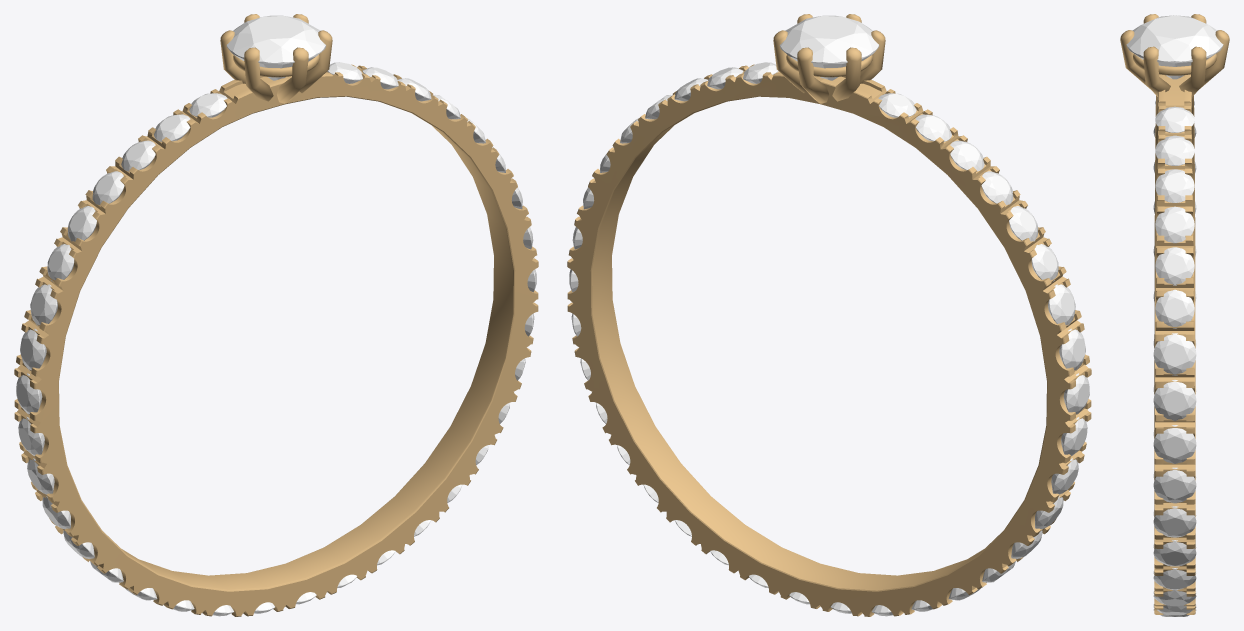
File: moissanite_ring.glb
3 views of the same model, side by side, from view 1: azimuth 30°, elevation 25°; view 2: azimuth 150°, elevation 25°; view 3: azimuth 270°, elevation 25° (orthographic). The views are drawn at different scales.
Parts seen in each view (by area): view 1: MoissaniteDiamondRing; view 2: MoissaniteDiamondRing; view 3: MoissaniteDiamondRing.
Boxes of the visible parts, <box> form: MoissaniteDiamondRing: <box>14,14,538,616</box>; MoissaniteDiamondRing: <box>567,14,1091,616</box>; MoissaniteDiamondRing: <box>1120,14,1229,616</box>.
Bounding box in the file's own units: 17.48 × 18.96 × 3.34.
